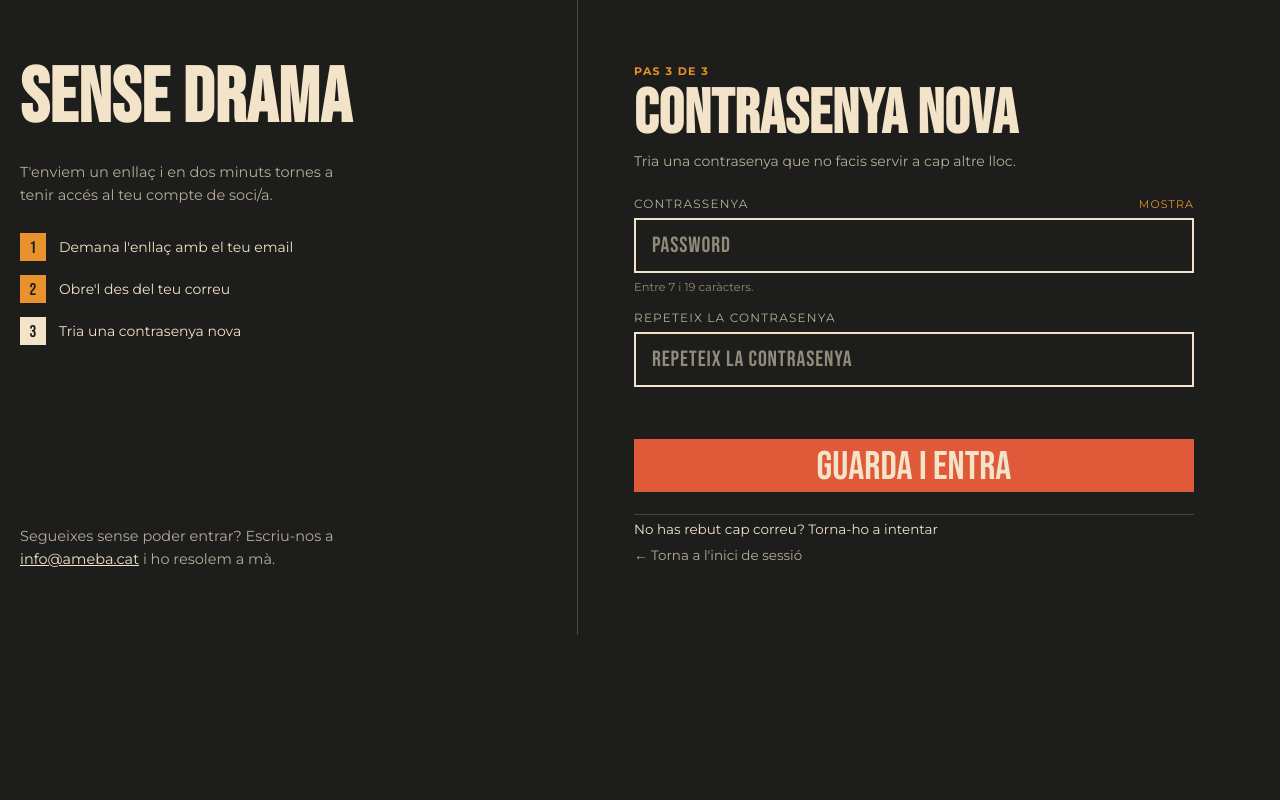
Test: RecoveryReset › submits the new password with the token and shows the done state
Type "unaContrasenya1" into the password field with placeholder "PASSWORD". click: (914, 246)
box: [634,218,1194,273]
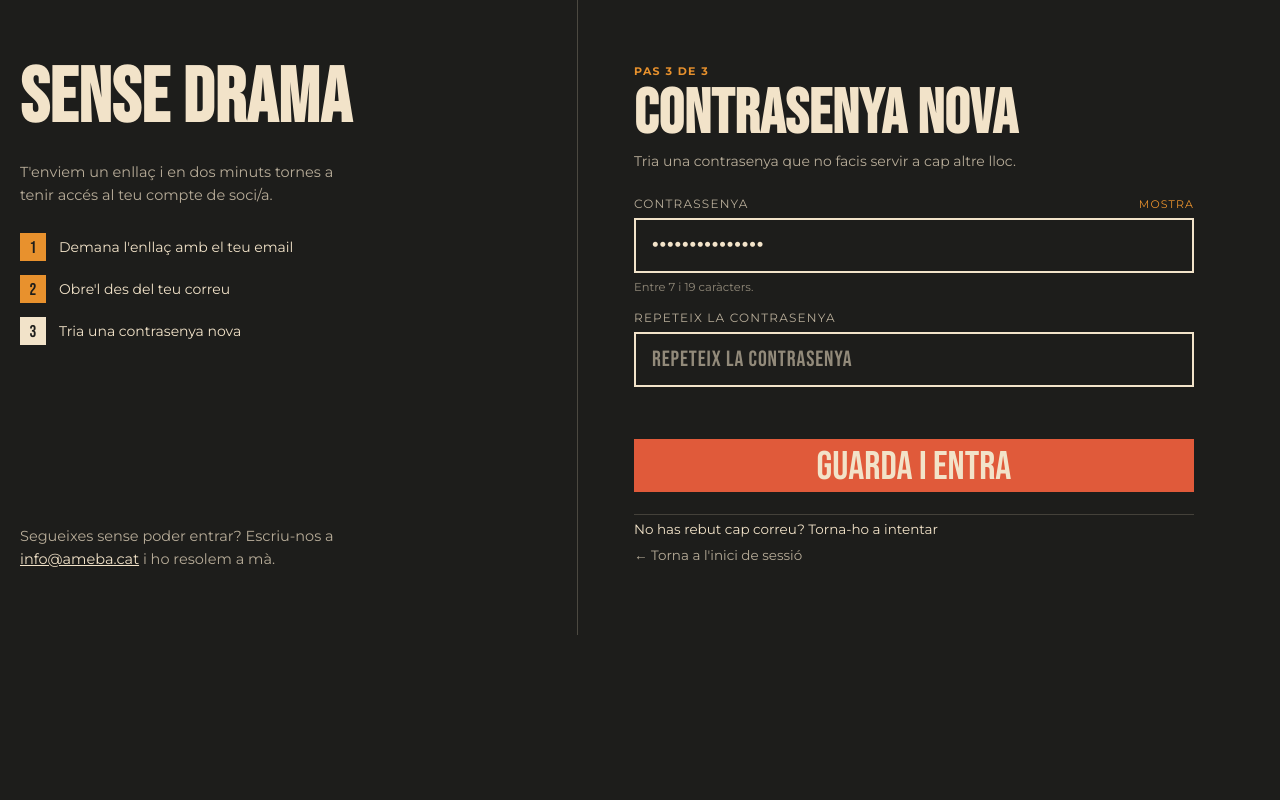
Type "unaContrasenya1" into the password field labelled "Repeteix la contrasenya". click: (914, 360)
box: [634,332,1194,387]
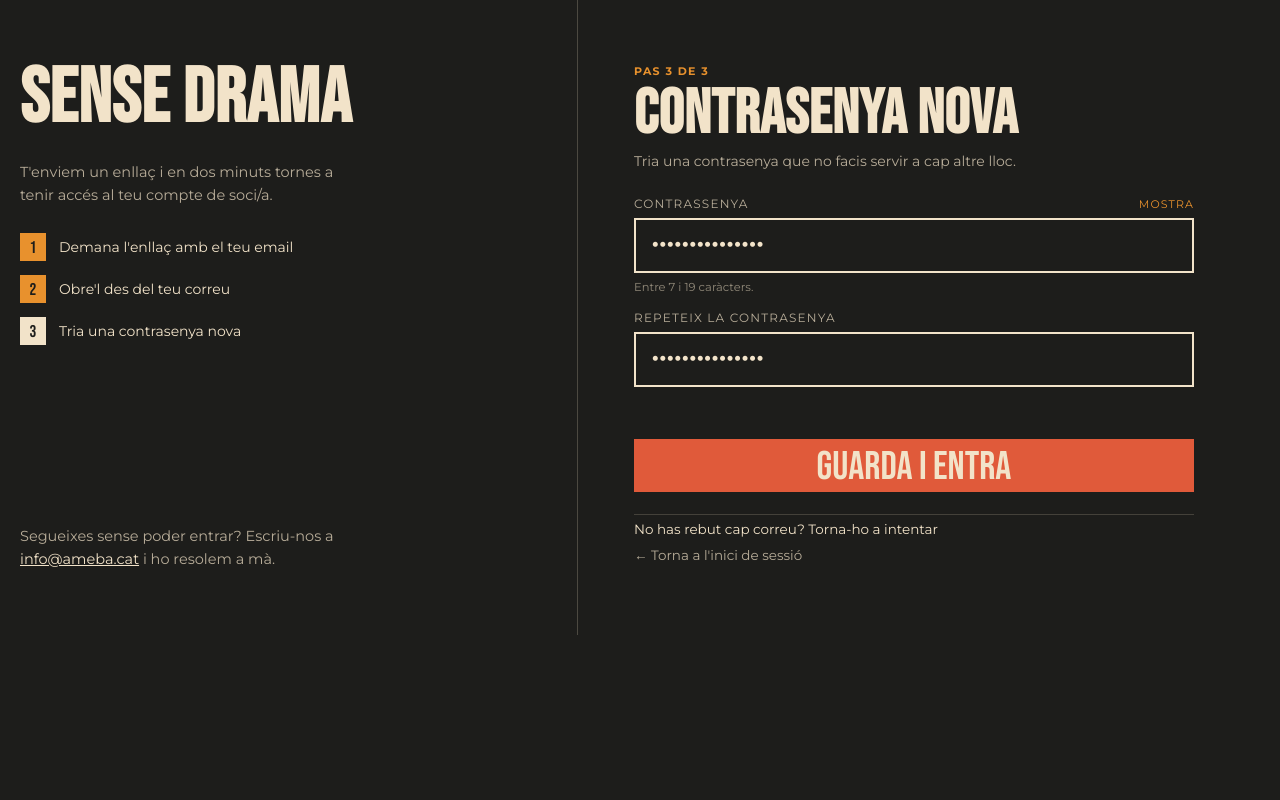
Click the button named "guarda i entra". click: (914, 466)
box: [634,439,1194,492]
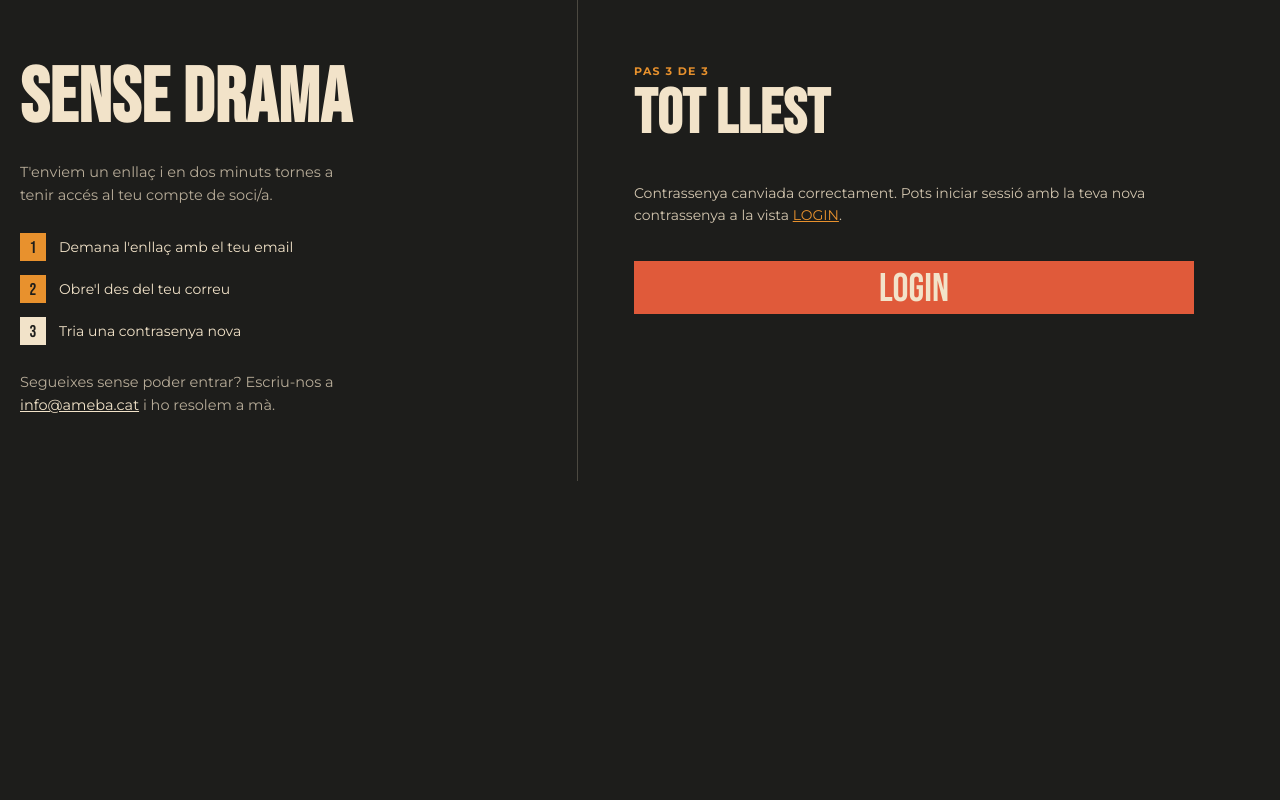
Result: the heading "TOT LLEST" is shown at [634,77,830,152]
